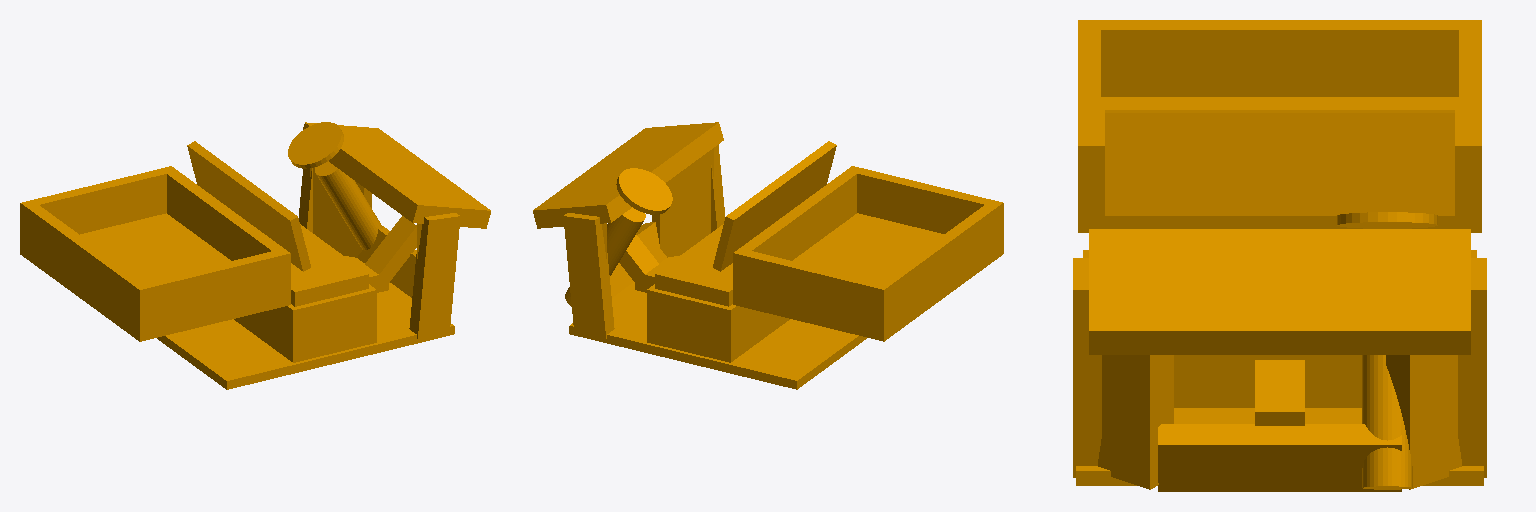
URDF robot description (polaris_ranger_ev):
<?xml version="1.0" ?><robot name="polaris_ranger_ev" xmlns:mat="http://www.mit.edu" xmlns:trans="http://www.mit.edu" xmlns:xs="http://www.w3.org/2001/XMLSchema">
    <!-- X,Y,Z,Roll,Pitch,Yaw params must exist for all otdf objects-->
    <!-- World frame origin of the object -->
    <param default_value="0.0" inc="0.001" max="100" min="-100" name="x"/>
    <param default_value="0.055" inc="0.001" max="100" min="-100" name="y"/>
    <param default_value="0.0" inc="0.001" max="100" min="-100" name="z"/>
    <!--Roll,Pitch,Yaw are about Body Frame-->

    <param default_value="0.0" inc="0.001" max="5" min="-5" name="roll"/>
    <param default_value="0.0" inc="0.001" max="5" min="-5" name="pitch"/>
    <param default_value="3.1385" inc="0.001" max="5" min="-5" name="yaw"/>
    <param default_value="0.6" inc="0.001" max="2.0" min="-2.0" name="seat_depth"/>
    <param default_value="1.44" inc="0.001" max="2.0" min="-2.0" name="seat_width"/>
    <param default_value="0.36" inc="0.001" max="2.0" min="-2.0" name="seat_height"/>
    <param default_value="0.075" inc="0.001" max="2.0" min="-2.0" name="seat_x"/>
    <param default_value="0.56" inc="0.001" max="2.0" min="-2.0" name="seat_z"/>
    <param default_value="1.36" inc="0.001" max="2.0" min="-2.0" name="seat_cushion_width"/>
    <param default_value="0.1" inc="0.001" max="2.0" min="-2.0" name="seat_cushion_height"/>
    <param default_value="0.529" inc="0.001" max="2.0" min="-2.0" name="seat_cushion_depth"/>
    <param default_value="1.28" inc="0.001" max="2.0" min="-2.0" name="seat_back_width"/>
    <param default_value="0.384" inc="0.001" max="2.0" min="-2.0" name="seat_back_height"/>
    <param default_value="0.06" inc="0.001" max="2.0" min="-2.0" name="seat_back_thickness"/>
    <param default_value="1.125" inc="0.001" max="2.0" min="-2.0" name="seat_back_z"/>
    <param default_value="0.368" inc="0.001" max="2.0" min="-2.0" name="floor_z"/>
    <param default_value="0.06" inc="0.001" max="2.0" min="-2.0" name="floor_thickness"/>
    <param default_value="0.553" inc="0.001" max="2.0" min="-2.0" name="hood_depth"/>
    <param default_value="1.4" inc="0.001" max="2.0" min="-2.0" name="hood_width"/>
    <param default_value="0.121" inc="0.001" max="2.0" min="-2.0" name="hood_height"/>
    <param default_value="1.092" inc="0.001" max="2.0" min="-2.0" name="hood_z"/>
    <param default_value="0.924" inc="0.001" max="2.0" min="-2.0" name="hood_x"/>
    <param default_value="0.229" inc="0.001" max="2.0" min="-2.0" name="side_wall_depth"/>
    <param default_value="0.108" inc="0.001" max="2.0" min="-2.0" name="side_wall_width"/>
    <param default_value="0.8" inc="0.001" max="2.0" min="-2.0" name="side_wall_height"/>
    <param default_value="0.798" inc="0.001" max="2.0" min="-2.0" name="side_wall_x"/>
    <param default_value="0.704" inc="0.001" max="2.0" min="-2.0" name="side_wall_y"/>
    <param default_value="0.728" inc="0.001" max="2.0" min="-2.0" name="side_wall_z"/>
    <param default_value="0.45" inc="0.001" max="2.0" min="-2.0" name="transmission_length"/>
    <param default_value="0.18" inc="0.001" max="2.0" min="-2.0" name="transmission_width"/>
    <param default_value="0.121" inc="0.001" max="2.0" min="-2.0" name="transmission_height"/>
    <param default_value="0.0018" inc="0.001" max="2.0" min="-2.0" name="transmission_slant_height"/>
    <param default_value="1.082" inc="0.001" max="2.0" min="-2.0" name="cargo_length"/>
    <param default_value="1.48" inc="0.001" max="2.0" min="-2.0" name="cargo_width"/>
    <param default_value="0.27" inc="0.001" max="2.0" min="-2.0" name="cargo_depth"/>
    <param default_value="0.084" inc="0.001" max="2.0" min="-2.0" name="cargo_thickness"/>
    <param default_value="-0.795" inc="0.001" max="2.0" min="-2.0" name="cargo_x"/>
    <param default_value="0.864" inc="0.001" max="2.0" min="-2.0" name="cargo_z"/>
    <param default_value="0.893" inc="0.001" max="2.0" min="-2.0" name="footwell_width"/>
    <param default_value="0.256" inc="0.001" max="2.0" min="-2.0" name="footwell_height"/>
    <param default_value="0.0013" inc="0.001" max="2.0" min="-2.0" name="footwell_x"/>
    <param default_value="0.08" inc="0.001" max="2.0" min="-2.0" name="footwell_z"/>
    <param default_value="1.63" inc="0.001" max="2.0" min="-2.0" name="floor_length"/>
    <param default_value="1.49" inc="0.001" max="2.0" min="-2.0" name="floor_width"/>
    <param default_value="0.16" inc="0.001" max="2.0" min="-2.0" name="floor_x"/>
    <param default_value="0.359" inc="0.001" max="2.0" min="-2.0" name="front_wall_depth"/>
    <param default_value="0.143" inc="0.001" max="2.0" min="-2.0" name="front_wall_width"/>
    <param default_value="0.768" inc="0.001" max="2.0" min="-2.0" name="front_wall_height"/>
    <param default_value="0.862" inc="0.001" max="2.0" min="-2.0" name="front_wall_x"/>
    <param default_value="0.571" inc="0.001" max="2.0" min="-2.0" name="front_wall_y"/>
    <param default_value="0.728" inc="0.001" max="2.0" min="-2.0" name="front_wall_z"/>
    <param default_value="0.861" inc="0.001" max="2.0" min="-2.0" name="steering_column_x"/>
    <param default_value="0.393" inc="0.001" max="2.0" min="-2.0" name="steering_column_y"/>
    <param default_value="0.713" inc="0.001" max="2.0" min="-2.0" name="steering_column_z"/>
    <param default_value="0.8" inc="0.001" max="2.0" min="-2.0" name="steering_column_length"/>
    <param default_value="0.092" inc="0.001" max="2.0" min="-2.0" name="steering_column_radius"/>
    <param default_value="-0.505" inc="0.001" max="2.0" min="-2.0" name="steering_column_angle"/>
    <!--<param default_value="0.0" inc="0.001" max="0.1" min="-0.1" name="steering_wheel_x"/>-->
    <!--<param default_value="0.0" inc="0.001" max="0.1" min="-0.1" name="steering_wheel_y"/>-->
    <param default_value="0.58" inc="0.001" max="2.0" min="-2.0" name="steering_wheel_z"/>
    <param default_value="0.184" inc="0.001" max="2.0" min="-2.0" name="steering_wheel_radius"/>
    <param default_value="0.036" inc="0.001" max="2.0" min="-2.0" name="steering_wheel_thickness"/>

    <link name="chassis">
      
      <collision name="chassis_bottom">
        <origin rpy="0 -0 0" xyz="0.16 0 0.338"/>
         <geometry>
           <box size="1.63 1.49 0.06"/>
         </geometry>
      </collision>
      <visual name="chassis_bottom">
        <origin rpy="0 -0 0" xyz="0.1 0 0.338"/>
         <geometry>
           <box size="1.63 1.49 0.06"/>
         </geometry>
      </visual>

      <collision name="footwell_back">
        <origin rpy="0 0.4 0" xyz="0.9763 0 0.448"/>
         <geometry>
           <box size="0.1 0.893 0.256"/>
         </geometry>
      </collision>
      <visual name="footwell_back">
        <origin rpy="0 0.4 0" xyz="0.9763 0 0.448"/>
         <geometry>
           <box size="0.1 0.893 0.256"/>
         </geometry>
      </visual>
  
      <collision name="cargo_bottom">
        <origin rpy="0 -0 0" xyz="-0.795 0 0.822"/>
         <geometry>
           <box size="1.082 1.48 0.084"/>
         </geometry>
      </collision>
  
      <collision name="cargo_front">
        <origin rpy="0 -0 0" xyz="-0.296 0 0.999"/>
         <geometry>
           <box size="0.084 1.48 0.27"/>
         </geometry>
      </collision>
  
      <collision name="cargo_back">
        <origin rpy="0 -0 0" xyz="-1.294 0 0.999"/>
         <geometry>
           <box size="0.084 1.48 0.27"/>
         </geometry>
      </collision>
  
      <collision name="cargo_left">
        <origin rpy="0 -0 0" xyz="-0.795 0.698 0.999"/>
         <geometry>
           <box size="1.082 0.084 0.27"/>
         </geometry>
      </collision>
  
      <collision name="cargo_left">
        <origin rpy="0 -0 0" xyz="-0.795 -0.782 0.999"/>
         <geometry>
           <box size="1.082 0.084 0.27"/>
         </geometry>
      </collision>

      <visual name="cargo_bottom">
        <origin rpy="0 -0 0" xyz="-0.795 0 0.822"/>
         <geometry>
           <box size="1.082 1.48 0.084"/>
         </geometry>
      </visual>
  
      <visual name="cargo_front">
        <origin rpy="0 -0 0" xyz="-0.296 0 0.999"/>
         <geometry>
           <box size="0.084 1.48 0.27"/>
         </geometry>
      </visual>
  
      <visual name="cargo_back">
        <origin rpy="0 -0 0" xyz="-1.294 0 0.999"/>
         <geometry>
           <box size="0.084 1.48 0.27"/>
         </geometry>
      </visual>
  
      <visual name="cargo_left">
        <origin rpy="0 -0 0" xyz="-0.795 0.698 0.999"/>
         <geometry>
           <box size="1.082 0.084 0.27"/>
         </geometry>
      </visual>
  
      <visual name="cargo_left">
        <origin rpy="0 -0 0" xyz="-0.795 -0.698 0.999"/>
         <geometry>
           <box size="1.082 0.084 0.27"/>
         </geometry>
      </visual>
  
      <collision name="transmission">
        <origin rpy="0 -0 0" xyz="0.6 0 0.4285"/>
         <geometry>
           <box size="0.45 0.18 0.121"/>
         </geometry>
      </collision>
      <visual name="transmission">
        <origin rpy="0 -0 0" xyz="0.6 0 0.4285"/>
         <geometry>
           <box size="0.45 0.18 0.121"/>
         </geometry>
      </visual>

      <collision name="transmission_slant">
        <origin rpy="0 0.7854 0" xyz="0.393 0 0.507"/>
         <geometry>
           <box size="0.101823376491 0.18 0.0509116882454"/>
         </geometry>
      </collision>
      <visual name="transmission_slant">
        <origin rpy="0 0.7854 0" xyz="0.393 0 0.507"/>
         <geometry>
           <box size="0.101823376491 0.18 0.0509116882454"/>
         </geometry>
      </visual>

      <collision name="transmission_slant">
        <origin rpy="0 -0.7854 0" xyz="0.925 0 0.589"/>
         <geometry>
           <box size="0.384666088965 0.18 0.101823376491"/>
         </geometry>
      </collision>
      <visual name="transmission_slant">
        <origin rpy="0 -0.7854 0" xyz="0.925 0 0.589"/>
         <geometry>
           <box size="0.384666088965 0.18 0.101823376491"/>
         </geometry>
      </visual>

      <collision name="seat">
        <origin rpy="0 -0 0" xyz="0.075 0 0.548"/>
         <geometry>
           <box size="0.6 1.44 0.36"/>
         </geometry>
      </collision>
      <visual name="seat">
        <origin rpy="0 -0 0" xyz="0.075 0 0.548"/>
         <geometry>
           <box size="0.6 1.44 0.36"/>
         </geometry>
      </visual>
  
      <collision name="mud_seat">
        <origin rpy="0 -0 0" xyz="0.075 0 0.778"/>
         <geometry>
           <box size="0.529 1.36 0.1"/>
         </geometry>
      </collision>
      <visual name="mud_seat">
        <origin rpy="0 -0 0" xyz="0.075 0 0.778"/>
         <geometry>
           <box size="0.529 1.36 0.1"/>
         </geometry>
      </visual>
  
      <collision name="seat_back">
        <origin rpy="0 -0.2 0" xyz="-0.125 0 1.125"/>
         <geometry>
           <box size="0.06 1.28 0.384"/>
         </geometry>
      </collision>
      <visual name="seat_back">
        <origin rpy="0 -0.25 0" xyz="-0.125 0 1.125"/>
         <geometry>
           <box size="0.06 1.28 0.384"/>
         </geometry>
      </visual>
  
      <collision name="hood">
        <origin rpy="0 0.3 0" xyz="0.924 0 1.092"/>
         <geometry>
           <box size="0.553 1.4 0.121"/>
         </geometry>
      </collision>
      <visual name="hood">
        <origin rpy="0 0.3 0" xyz="0.924 0 1.092"/>
         <geometry>
           <box size="0.553 1.4 0.121"/>
         </geometry>
      </visual>

      <collision name="left_side_wall">
        <origin rpy="0 0.1 0" xyz="0.798 -0.704 0.728"/>
         <geometry>
           <box size="0.229 0.108 0.8"/>
         </geometry>
      </collision>
      <visual name="left_side_wall">
        <origin rpy="0 0.1 0" xyz="0.798 -0.704 0.728"/>
         <geometry>
           <box size="0.229 0.108 0.8"/>
         </geometry>
      </visual>

      <collision name="right_side_wall">
        <origin rpy="0 0.1 0" xyz="0.798 0.704 0.728"/>
         <geometry>
           <box size="0.229 0.108 0.8"/>
         </geometry>
      </collision>
      <visual name="right_side_wall">
        <origin rpy="0 0.1 0" xyz="0.798 0.704 0.728"/>
         <geometry>
           <box size="0.229 0.108 0.8"/>
         </geometry>
      </visual>

      <collision name="left_front_wall">
        <origin rpy="0 0 0.9" xyz="0.862 -0.571 0.728"/>
         <geometry>
           <box size="0.359 0.143 0.768"/>
         </geometry>
      </collision>
      <collision name="right_front_wall">
        <origin rpy="0 0 -0.9" xyz="0.862 0.571 0.728"/>
         <geometry>
           <box size="0.359 0.143 0.768"/>
         </geometry>
      </collision>

      <visual name="left_front_wall">
        <origin rpy="0 0 0.9" xyz="0.862 -0.571 0.728"/>
         <geometry>
           <box size="0.359 0.143 0.768"/>
         </geometry>
      </visual>
      <visual name="right_front_wall">
        <origin rpy="0 0 -0.9" xyz="0.862 0.571 0.728"/>
         <geometry>
           <box size="0.359 0.143 0.768"/>
         </geometry>
      </visual>

      <collision name="steering_column">
        <origin rpy="0 -0.505 0" xyz="0.861 0.393 0.713"/>
         <geometry>
           <cylinder length="0.8" radius="0.092"/>
         </geometry>
      </collision>
      <visual name="steering_column">
        <origin rpy="0 -0.505 0" xyz="0.861 0.393 0.713"/>
         <geometry>
           <cylinder length="0.8" radius="0.092"/>
         </geometry>
      </visual>

     <collision>
       <origin rpy="0 -0.505 0" xyz="0.580391684612 0.393 1.22060119517"/>
       <geometry>
         <cylinder length="0.036" radius="0.184"/>
       </geometry>
     </collision>
     <visual>
       <origin rpy="0 -0.505 0" xyz="0.580391684612 0.393 1.22060119517"/>
       <geometry>
         <cylinder length="0.036" radius="0.184"/>
       </geometry>
     </visual>
   </link>
   <!--<link name="steering_wheel">-->
     <!--<inertial>-->
       <!--<origin xyz="0 0 0" rpy="0 0 0"/>-->
       <!--<mass value="1"/>-->
       <!--<inertia ixx="1" iyy="1" izz="1"/>-->
     <!--</inertial>-->
     <!--<collision>-->
       <!--<origin xyz="${steering_wheel_x} ${steering_wheel_y} ${0.5+steering_wheel_z}" rpy="0 0 0"/>-->
       <!--<geometry>-->
         <!--<cylinder radius="${steering_wheel_radius}" length="${steering_wheel_thickness}"/>-->
       <!--</geometry>-->
     <!--</collision>-->
     <!--<visual>-->
       <!--<origin xyz="${steering_wheel_x} ${steering_wheel_y} ${0.5+steering_wheel_z}" rpy="0 0 0"/>-->
       <!--<geometry>-->
         <!--<cylinder radius="${steering_wheel_radius}" length="${steering_wheel_thickness}"/>-->
       <!--</geometry>-->
     <!--</visual>-->
   <!--</link>-->
   <!--<joint name="steering_wheel_joint" type="continuous">-->
     <!--<parent link="chassis" type="link"/>-->
     <!--<child link="steering_wheel" type="link"/>-->
     <!--<origin xyz="${steering_column_x} ${steering_column_y} ${steering_column_z}" rpy="0 -0.48 0"/>-->
     <!--<axis xyz="0 0 1"/>-->
   <!--</joint>-->
  </robot>

--- Render facts (derived) ---
Views: 3 orthographic renders of the robot side by side, from view 1: azimuth 30°, elevation 25°; view 2: azimuth 150°, elevation 25°; view 3: azimuth 270°, elevation 25°.
Model polaris_ranger_ev with 1 links and 0 joints (none), rooted at chassis, posed every joint at zero.
Visible links, largest first — view 1: chassis; view 2: chassis; view 3: chassis.
Link boxes in pixels (<box>): chassis: <box>20,122,490,389</box>; chassis: <box>533,122,1003,389</box>; chassis: <box>1073,20,1486,491</box>.
Bounding box of the posed robot: 2.54 × 1.52 × 1.02 m (x, y, z).
Geometry: primitives only (box / cylinder / sphere), no mesh files.